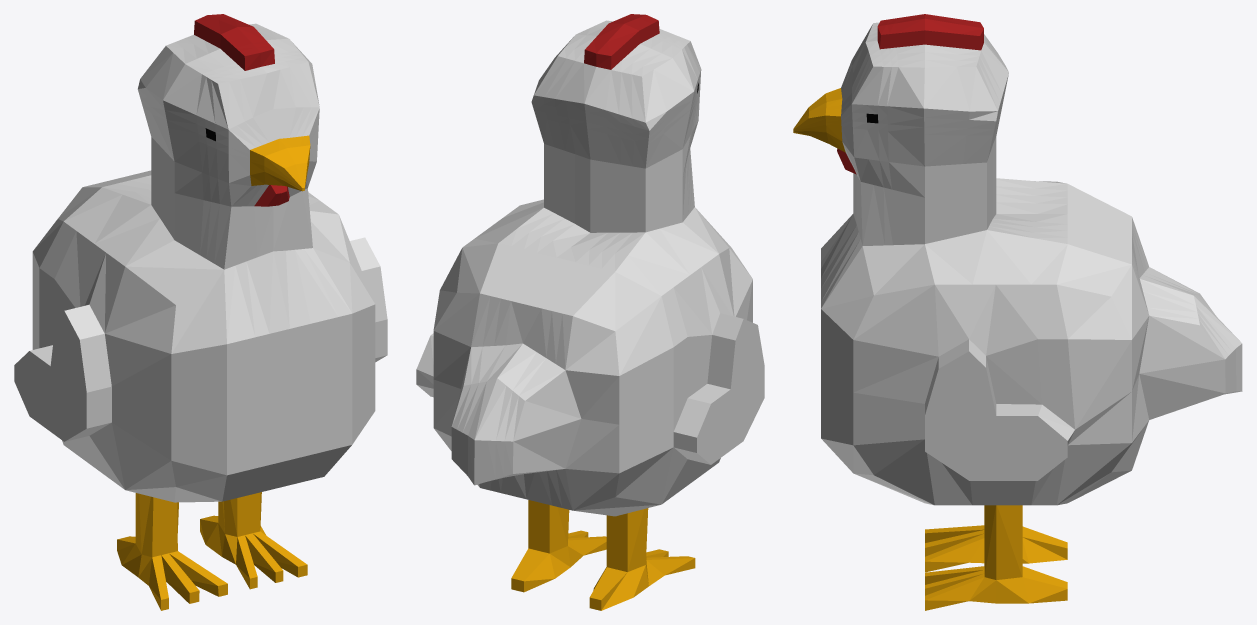
Rendered from Chicken.fbx.
3 renders of one model, left to right at view 1: azimuth 30°, elevation 25°; view 2: azimuth 150°, elevation 25°; view 3: azimuth 270°, elevation 25°, orthographic. The views are drawn at different scales.
Visible parts, largest first — view 1: Chicken_model:Chicken; view 2: Chicken_model:Chicken; view 3: Chicken_model:Chicken.
Part boxes in pixels (x1,y1,x2,y2): Chicken_model:Chicken: [14, 14, 387, 610]; Chicken_model:Chicken: [416, 14, 764, 610]; Chicken_model:Chicken: [793, 14, 1242, 610].
Size of the model in its own units: 67.2 by 121 by 87.93.
